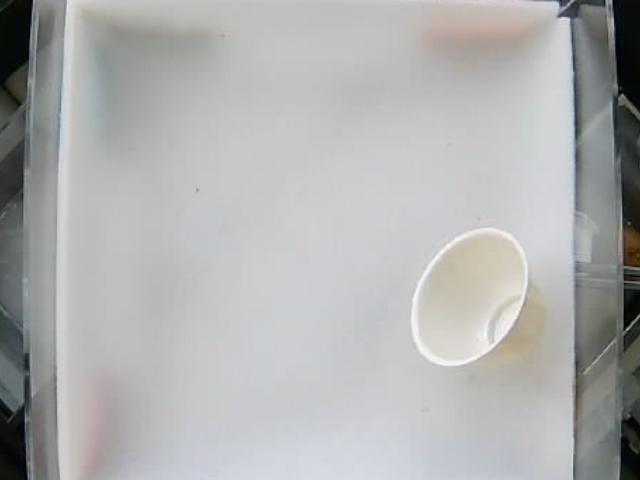Cup: (410, 226, 548, 372)
